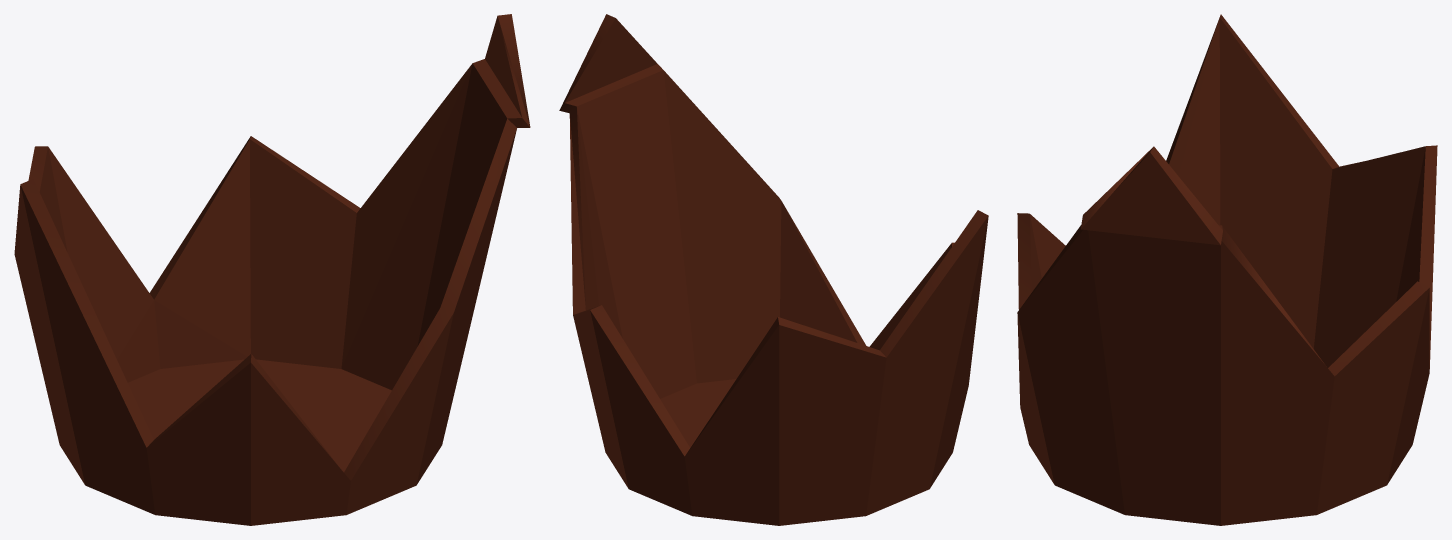
The model's file is pot1piece1.fbx.
3 renders of one model, left to right at view 1: azimuth 30°, elevation 25°; view 2: azimuth 150°, elevation 25°; view 3: azimuth 270°, elevation 25°, orthographic. The views are drawn at different scales.
Visible parts, largest first — view 1: pot1broken1; view 2: pot1broken1; view 3: pot1broken1.
Part boxes in pixels (x1,y1,x2,y2): pot1broken1: [14, 14, 530, 525]; pot1broken1: [559, 14, 988, 525]; pot1broken1: [1017, 14, 1437, 525].
Size of the model in its own units: 36.93 by 30 by 28.34.
